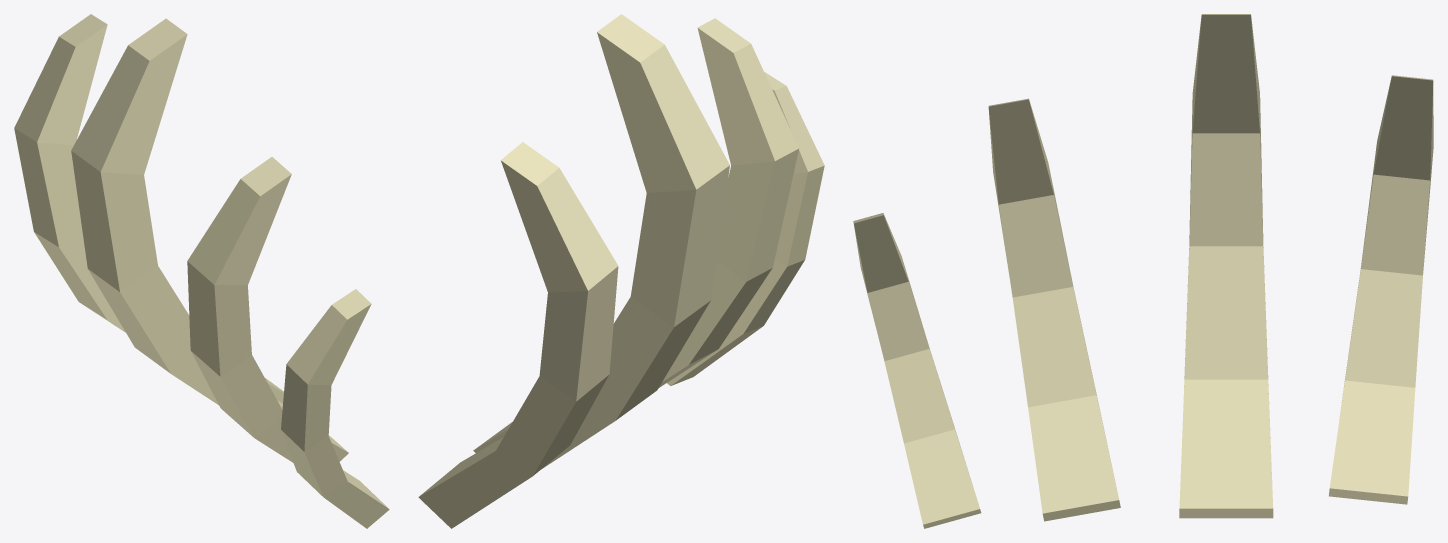
Rendered from BoneRibCase.fbx.
The picture shows the model from 3 angles, left to right: view 1: azimuth 30°, elevation 25°; view 2: azimuth 150°, elevation 25°; view 3: azimuth 270°, elevation 25°; orthographic projection. The views are drawn at different scales.
Parts seen in each view (by area): view 1: pCube46; view 2: pCube46; view 3: pCube46.
Part boxes in pixels (<box>): pCube46: <box>14,14,389,528</box>; pCube46: <box>418,14,824,528</box>; pCube46: <box>853,14,1433,528</box>.
Size of the model in its own units: 56.58 by 120 by 131.
